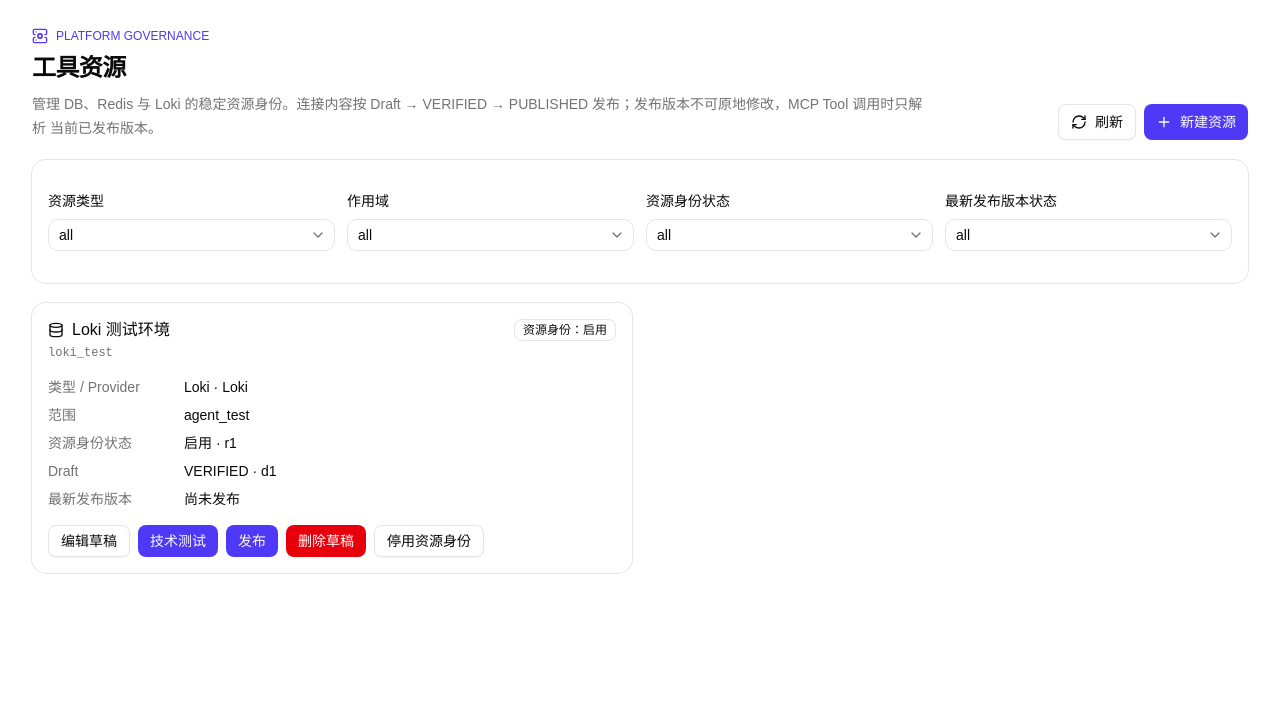
Phase 5 platform governance UI › publishes a verified Resource Draft directly
The image size is (1280, 720).
Click the button "发布".
click(252, 541)  # box [226, 525, 278, 557]
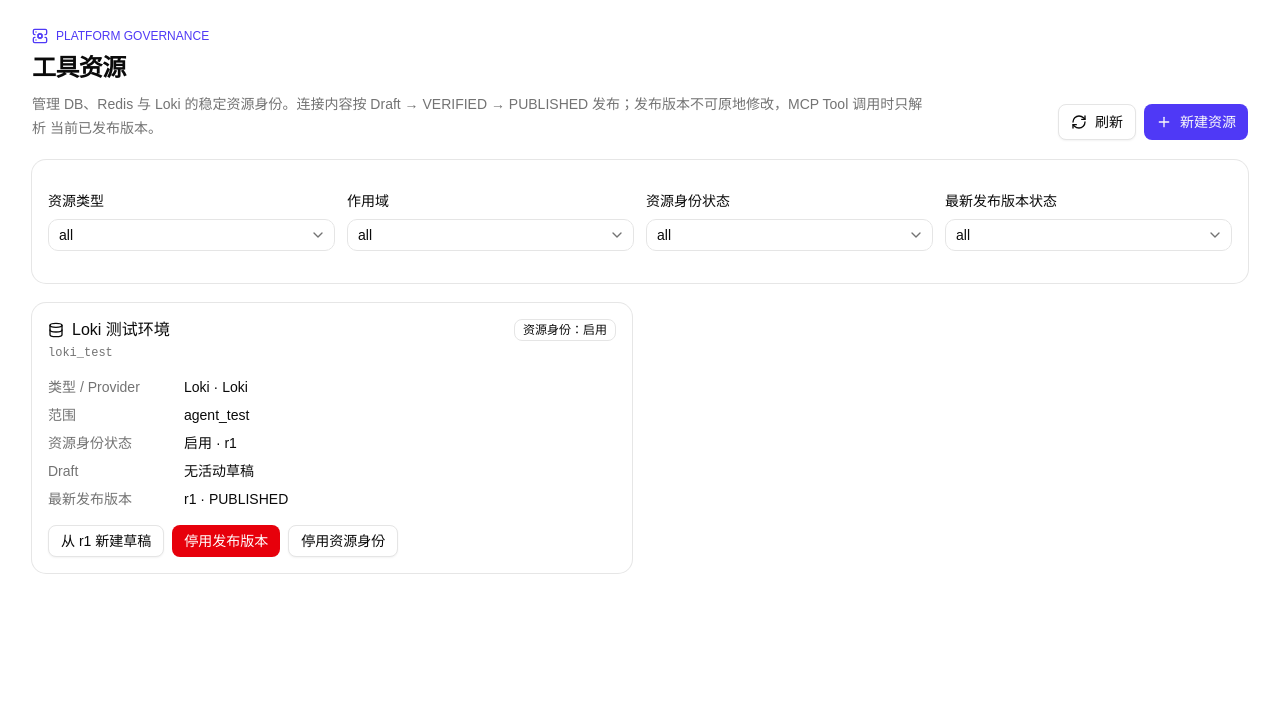
Expected: the text "r1 · PUBLISHED" is shown, [184, 491, 288, 507]
